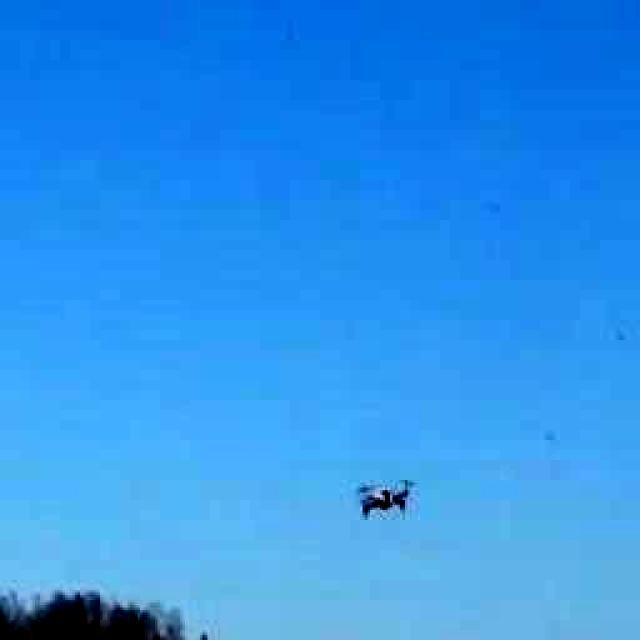bird: (332, 452, 432, 540)
